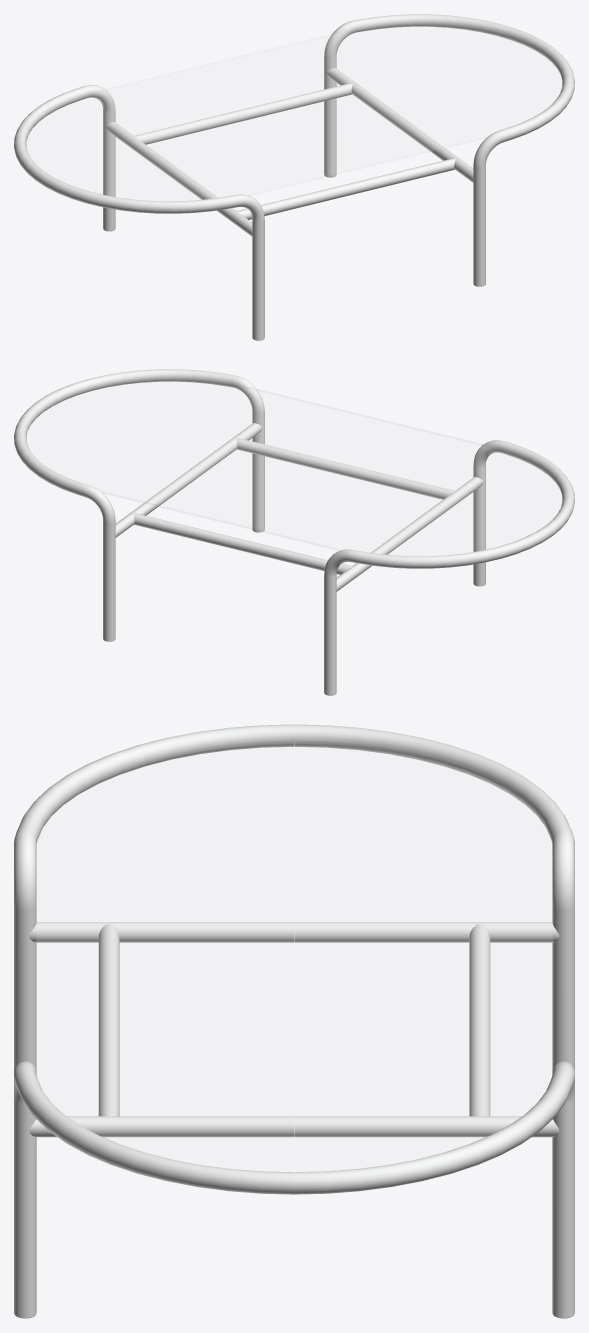
The model's file is rowtable.glb.
3 renders of one model, top to bottom at view 1: azimuth 30°, elevation 25°; view 2: azimuth 150°, elevation 25°; view 3: azimuth 270°, elevation 25°, orthographic. The views are drawn at different scales.
Parts seen in each view (by area): view 1: X6ZGM2zB2BD50A46F6A4EC1_low; view 2: X6ZGM2zB2BD50A46F6A4EC1_low; view 3: X6ZGM2zB2BD50A46F6A4EC1_low.
Part boxes in pixels (x1=…): X6ZGM2zB2BD50A46F6A4EC1_low: x1=14, y1=14, x2=574, y2=340; X6ZGM2zB2BD50A46F6A4EC1_low: x1=14, y1=369, x2=574, y2=695; X6ZGM2zB2BD50A46F6A4EC1_low: x1=14, y1=724, x2=574, y2=1318.
Bounding box in the file's own units: 1.25 × 0.34 × 0.646.
Materials: 1 (1 with a texture image).
